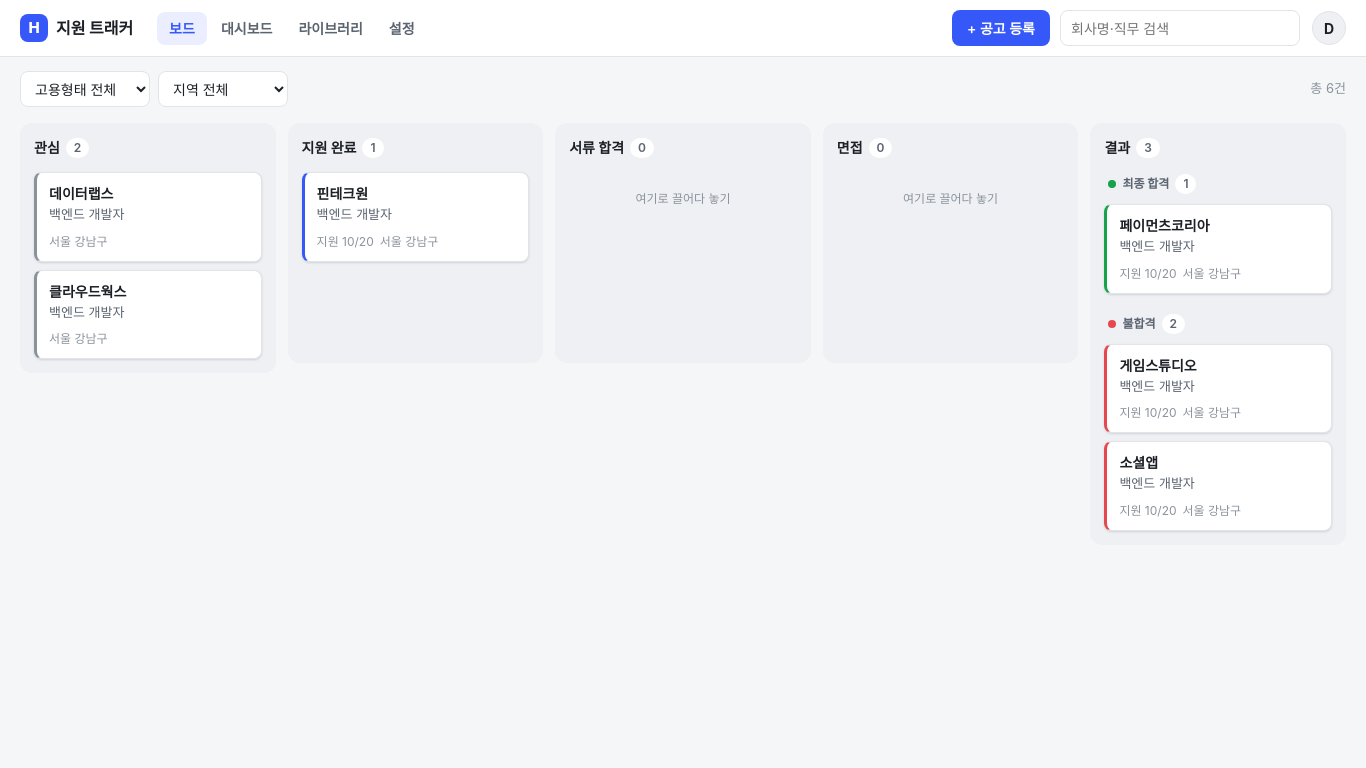
Test: 칸반 보드 › 필터 결과가 없을 때는 첫 공고 안내를 띄우지 않는다
This screenshot has width=1366, height=768.
Check: the text "총 6건" is shown, box [1310, 79, 1346, 99]
Select "부산" in the dropdown named "지역": (223, 89) [158, 71, 288, 107]
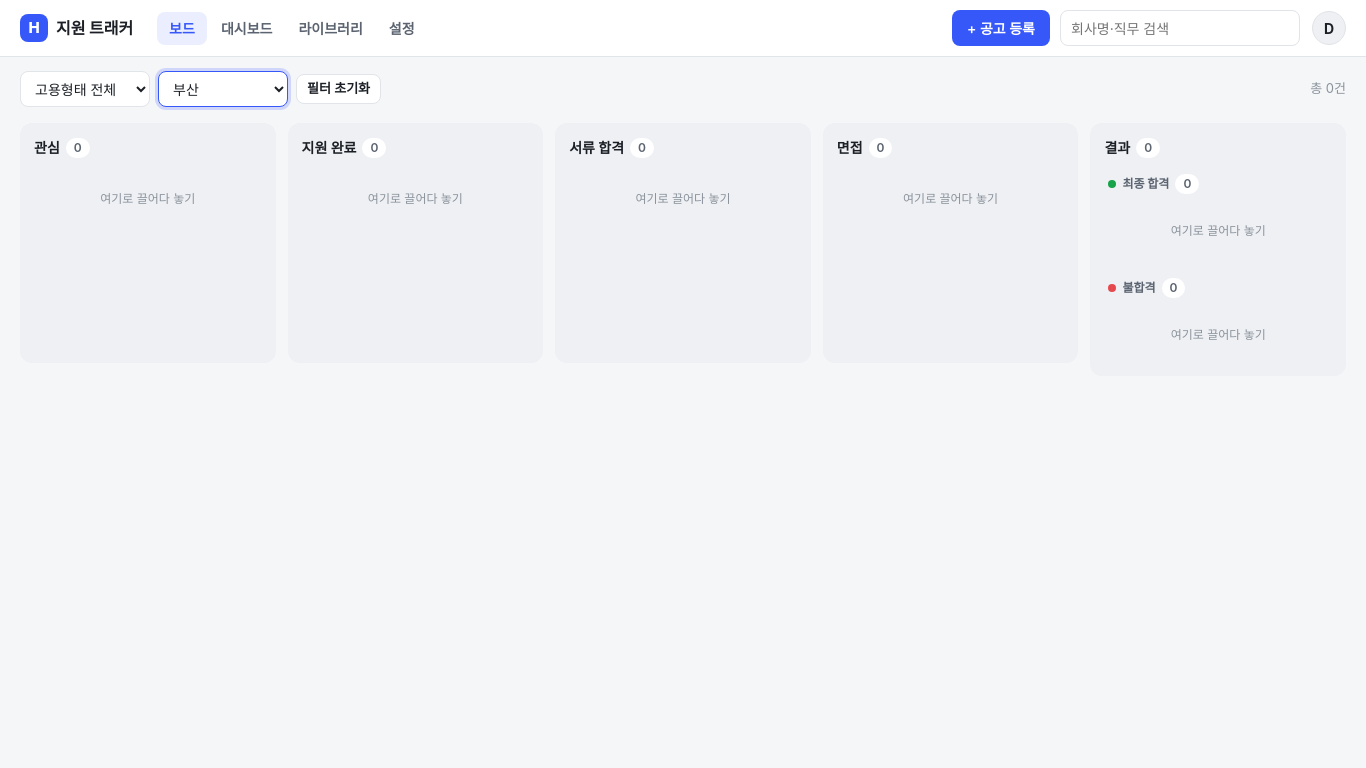
Check: the text "총 0건" is shown, box [1310, 79, 1346, 99]
